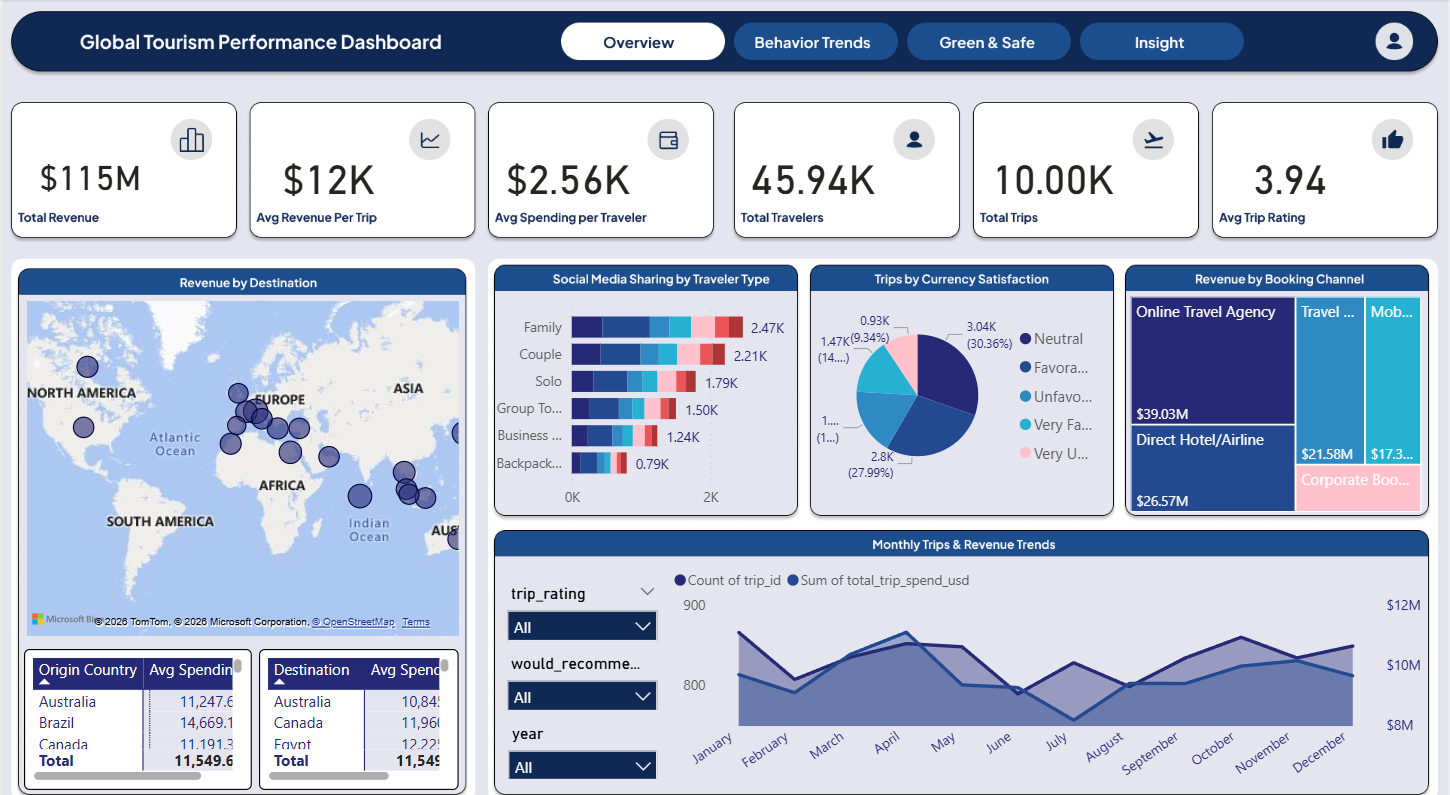

The dashboard page shown, as its layout file describes it:
{"tool":"powerbi","page":{"name":"Page 1","canvas":[1280,720],"ordinal":4},"visuals":[{"type":"card","title":"Total Revenue","fields":{"Values":["Sum(public tourism_cleaned_portfolio.total_trip_spend_usd)"]},"box":[7.1,104.6,140.1,104.6],"z":0},{"type":"card","title":"Avg Trip Rating","fields":{"Values":["Avg(public tourism_cleaned_portfolio.total_trip_spend_usd)"]},"box":[219,104.6,139.2,104.6],"z":1000},{"type":"card","title":"Total Travelers","fields":{"Values":["Avg(public tourism_cleaned_portfolio.budget_per_person_usd)"]},"box":[430.9,104.6,140.1,104.6],"z":2000},{"type":"card","title":"Total Travelers","fields":{"Values":["Sum(public tourism_cleaned_portfolio.num_travelers)"]},"box":[647.3,104.6,141.9,104.6],"z":3000},{"type":"card","title":"Total Travelers","fields":{"Values":["CountNonNull(public tourism_cleaned_portfolio.trip_id)"]},"box":[861,104.6,140.1,104.6],"z":4000},{"type":"card","title":"Avg Trip Rating","fields":{"Values":["Avg(public tourism_cleaned_portfolio.trip_rating)"]},"box":[1070.2,104.6,141.9,104.6],"z":5000},{"type":"map","title":"Revenue by Destination","fields":{"Category":["public tourism_cleaned_portfolio.destination_country"],"Size":["Sum(public tourism_cleaned_portfolio.total_trip_spend_usd)"]},"box":[16.4,262.7,392.7,307.3],"z":6000},{"type":"barChart","title":"Social Media Sharing by Traveler Type","fields":{"Category":["public tourism_cleaned_portfolio.traveler_type"],"Series":["public tourism_cleaned_portfolio.social_media_shared"],"Y":["Count(public tourism_cleaned_portfolio.trip_id)"]},"box":[420,259,284,201],"z":7000},{"type":"pieChart","title":"Trips by Currency Satisfaction","fields":{"Category":["public tourism_cleaned_portfolio.currency_satisfaction"],"Y":["CountNonNull(public tourism_cleaned_portfolio.trip_id)"]},"box":[715.4,243.1,268.5,216.9],"z":8000},{"type":"treemap","title":"Revenue by Booking Channel","fields":{"Group":["public tourism_cleaned_portfolio.booking_channel"],"Values":["Sum(public tourism_cleaned_portfolio.total_trip_spend_usd)"]},"box":[995,259.2,267.5,200.8],"z":9000},{"type":"areaChart","title":"Monthly Trips & Revenue Trends","fields":{"Y":["CountNonNull(public tourism_cleaned_portfolio.trip_id)"],"Category":["public tourism_cleaned_portfolio.travel_month"],"Y2":["Sum(public tourism_cleaned_portfolio.total_trip_spend_usd)"]},"box":[590,496,673,211],"z":10000},{"type":"slicer","fields":{"Values":["public tourism_cleaned_portfolio.year"]},"box":[437.7,638.5,152.3,53.1],"z":11000},{"type":"pivotTable","fields":{"Rows":["public tourism_cleaned_portfolio.origin_country"],"Values":["public tourism_cleaned_portfolio.Avg Spending"]},"box":[18.2,576.4,201.8,124.5],"z":12000},{"type":"pivotTable","fields":{"Rows":["public tourism_cleaned_portfolio.destination_country"],"Values":["public tourism_cleaned_portfolio.Avg Spending"]},"box":[226.9,576.2,176.9,124.6],"z":13000},{"type":"slicer","fields":{"Values":["public tourism_cleaned_portfolio.would_recommend"]},"box":[436.9,576.2,153.1,53.8],"z":14000},{"type":"slicer","fields":{"Values":["public tourism_cleaned_portfolio.trip_rating"]},"box":[436.9,513.8,153.1,56.2],"z":15000}]}

Visuals, with their boxes in screenshot pixels (x1, y1, x2, y2), scaled from the page's 1280x720 canvas onto the 1450x795 screenshot:
"Total Revenue" card: <box>8,115,167,231</box>
"Avg Trip Rating" card: <box>248,115,406,231</box>
"Total Travelers" card: <box>488,115,647,231</box>
"Total Travelers" card: <box>733,115,894,231</box>
"Total Travelers" card: <box>975,115,1134,231</box>
"Avg Trip Rating" card: <box>1212,115,1373,231</box>
"Revenue by Destination" map: <box>19,290,463,629</box>
"Social Media Sharing by Traveler Type" barChart: <box>476,286,798,508</box>
"Trips by Currency Satisfaction" pieChart: <box>810,268,1115,508</box>
"Revenue by Booking Channel" treemap: <box>1127,286,1430,508</box>
"Monthly Trips & Revenue Trends" areaChart: <box>668,548,1431,781</box>
slicer - public tourism_cleaned_portfolio.year: <box>496,705,668,764</box>
pivotTable - public tourism_cleaned_portfolio.origin_country x public tourism_cleaned_portfolio.Avg Spending: <box>21,636,249,774</box>
pivotTable - public tourism_cleaned_portfolio.destination_country x public tourism_cleaned_portfolio.Avg Spending: <box>257,636,457,774</box>
slicer - public tourism_cleaned_portfolio.would_recommend: <box>495,636,668,696</box>
slicer - public tourism_cleaned_portfolio.trip_rating: <box>495,567,668,629</box>
